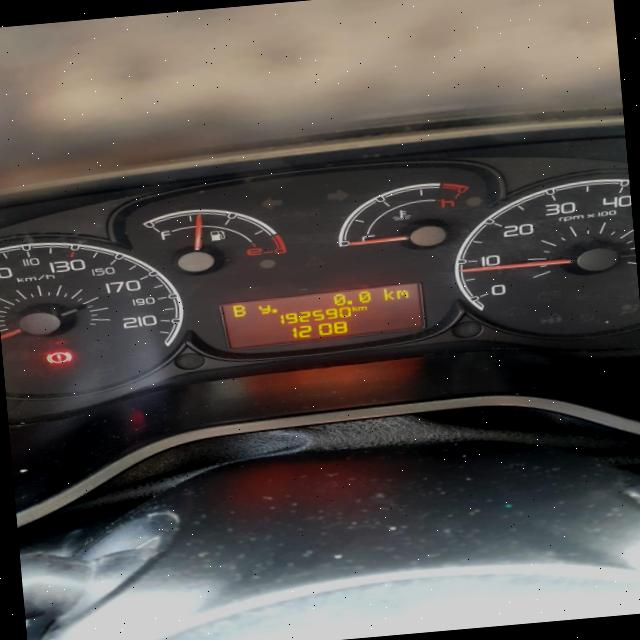odometer: (214, 278, 438, 353)
